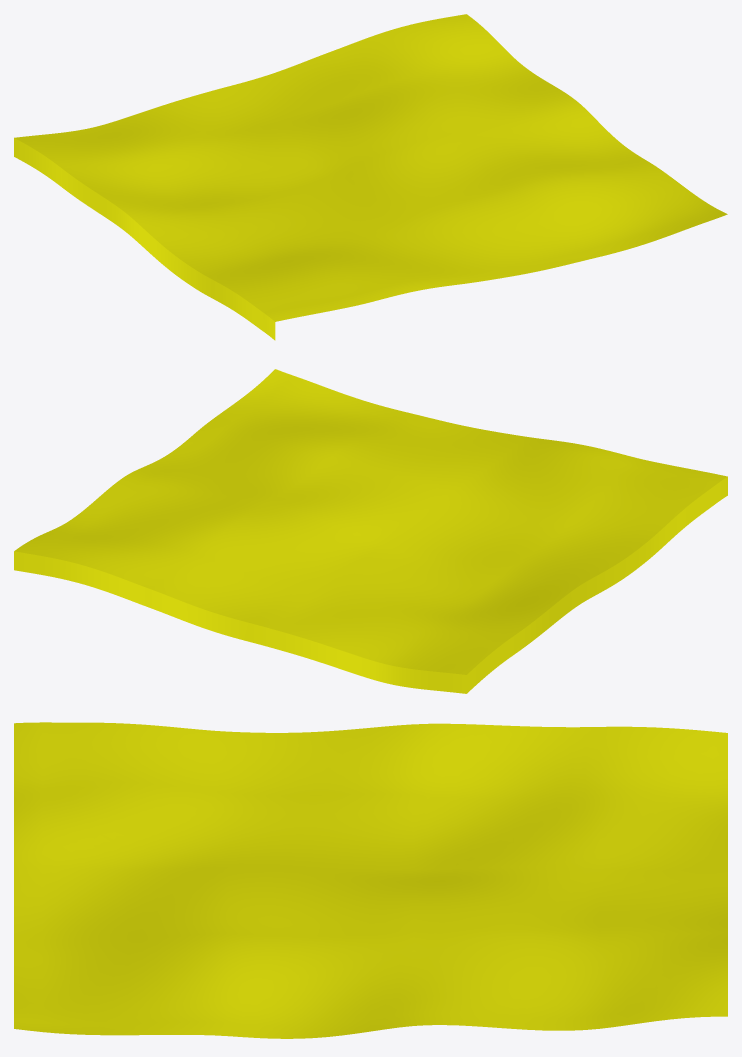
File: terrain_0_3.glb
The picture shows the model from 3 angles, top to bottom: view 1: azimuth 30°, elevation 25°; view 2: azimuth 150°, elevation 25°; view 3: azimuth 270°, elevation 25°; orthographic projection. The views are drawn at different scales.
Visible parts, largest first — view 1: terrain_0_3.0, terrain_0_3.1; view 2: terrain_0_3.0, terrain_0_3.1; view 3: terrain_0_3.0.
Boxes of the visible parts, bbox=[...] form: terrain_0_3.0: bbox=[14, 14, 727, 321]; terrain_0_3.1: bbox=[14, 138, 275, 340]; terrain_0_3.0: bbox=[14, 369, 727, 674]; terrain_0_3.1: bbox=[14, 477, 727, 693]; terrain_0_3.0: bbox=[14, 722, 727, 1038].
Bounding box in the file's own units: 50 × 4.67 × 50.
